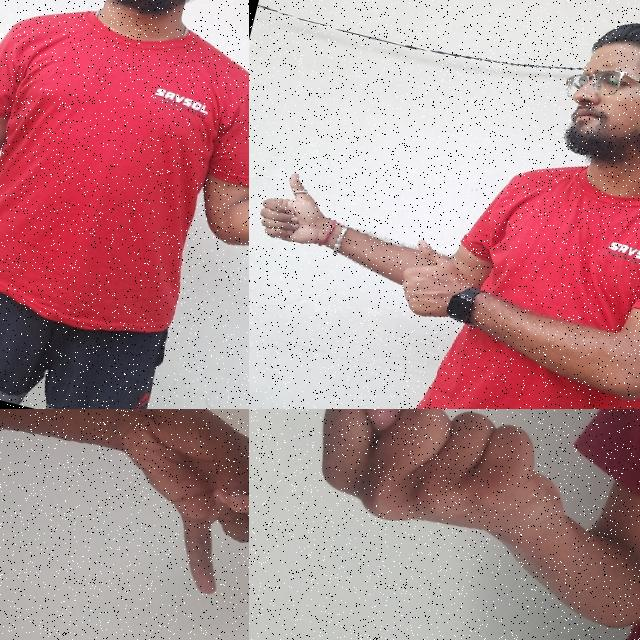Corna: (65, 409, 249, 631)
Dulya: (288, 409, 582, 582)
Thumbs Up: (379, 226, 484, 332), (249, 157, 344, 258)
